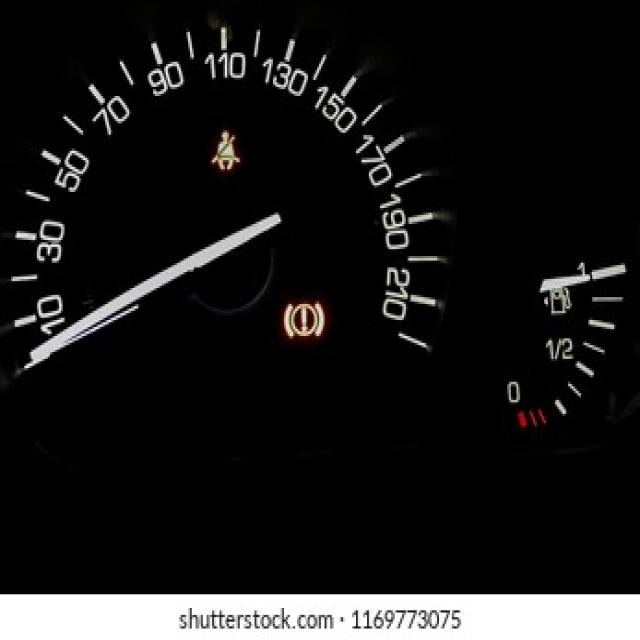Braking System Issue: (278, 297, 328, 341)
